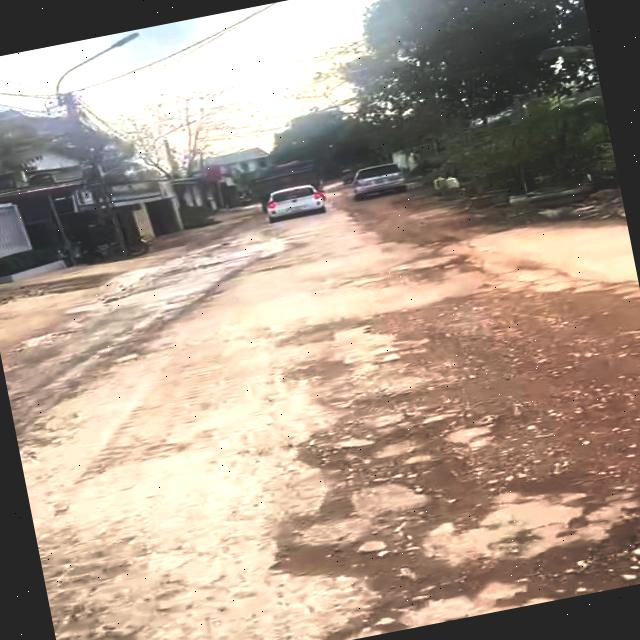pothole: (241, 465, 640, 640), (300, 410, 501, 543), (306, 375, 459, 448)
